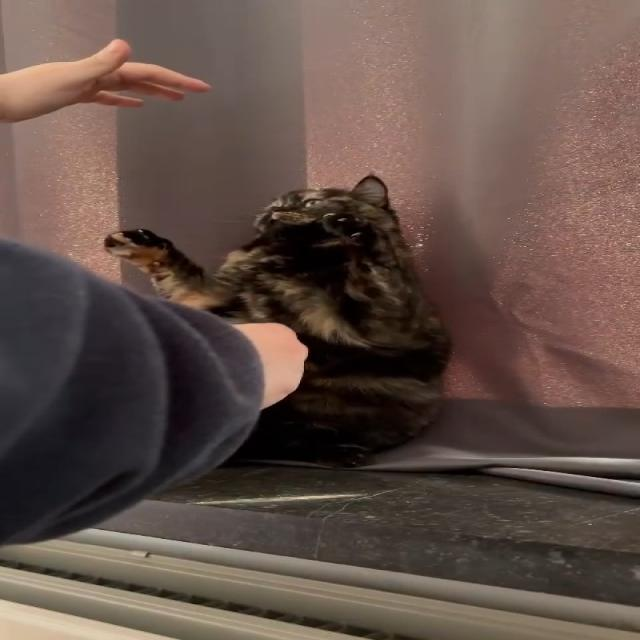authorized: (101, 171, 454, 468)
